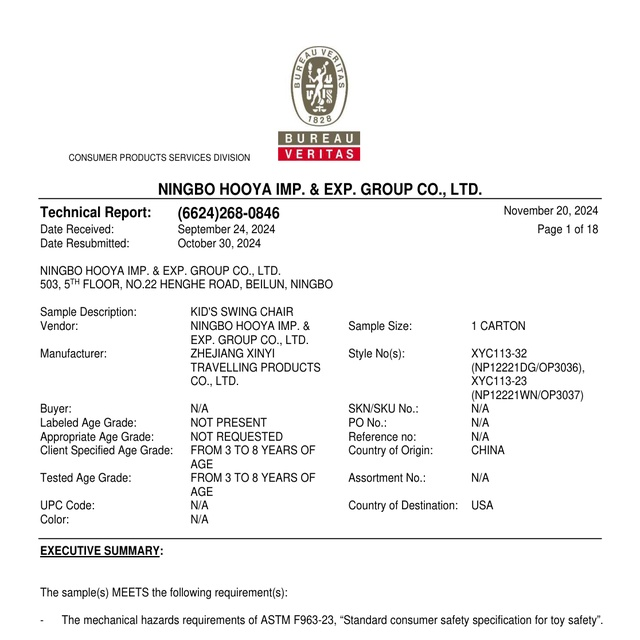bureau_veritas: (278, 44, 362, 164)
